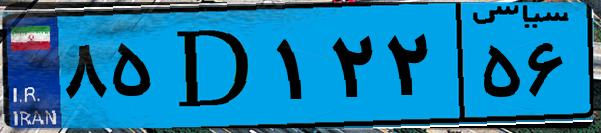1: (270, 28, 330, 110)
2: (385, 28, 445, 110), (330, 28, 385, 110)
5: (475, 38, 525, 113), (110, 28, 158, 98)
6: (525, 38, 570, 115)
8: (57, 26, 110, 100)
D: (158, 12, 270, 120)
